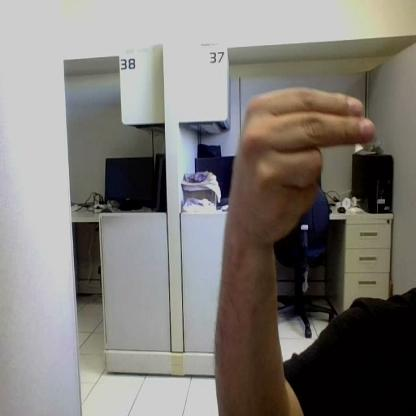H: (233, 88, 373, 244)
